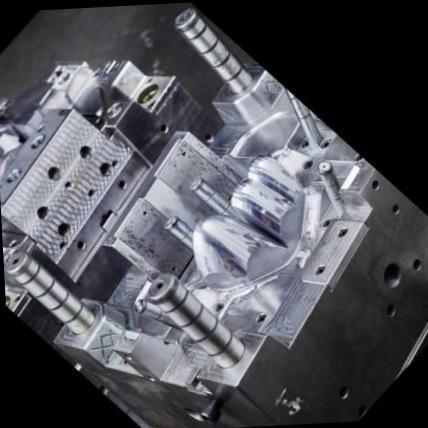hole: (374, 256, 412, 294)
